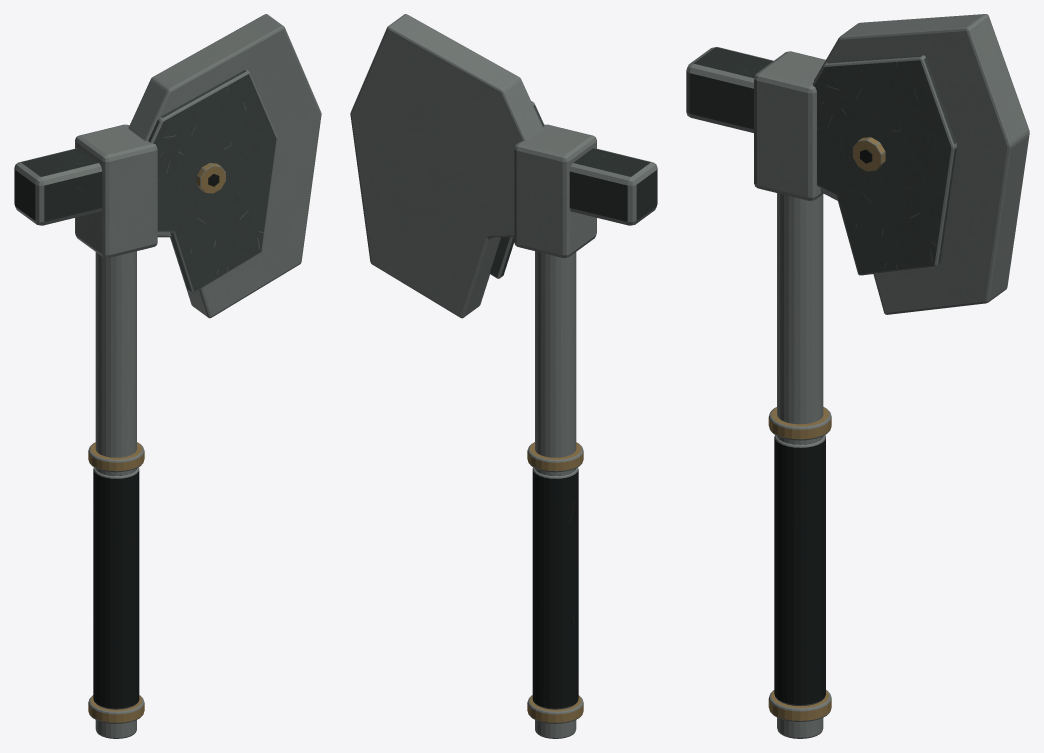
The model's file is axe-t3.glb.
The picture shows the model from 3 angles, left to right: view 1: azimuth 30°, elevation 25°; view 2: azimuth 150°, elevation 25°; view 3: azimuth 330°, elevation 25°; orthographic projection. The views are drawn at different scales.
Parts seen in each view (by area): view 1: Axe continuous cutting edge, Axe painted cheek, Continuous two-hand wrap, Steel shaft, Axe shaft socket, Counterweight poll, Grip ferrule.001, Grip ferrule, Axe cheek pin; view 2: Axe continuous cutting edge, Continuous two-hand wrap, Steel shaft, Axe shaft socket, Counterweight poll, Grip ferrule.001, Grip ferrule, Axe painted cheek; view 3: Axe continuous cutting edge, Axe painted cheek, Continuous two-hand wrap, Steel shaft, Axe shaft socket, Counterweight poll, Grip ferrule.001, Grip ferrule, Axe cheek pin.
Boxes of the visible parts, x1,y1,x2,y2 form: Axe continuous cutting edge: (128,14,321,318); Axe painted cheek: (148,69,277,292); Continuous two-hand wrap: (93,467,139,709); Steel shaft: (95,251,136,738); Axe shaft socket: (75,124,157,257); Counterweight poll: (14,148,102,225); Grip ferrule.001: (88,442,144,472); Grip ferrule: (88,695,144,723); Axe cheek pin: (196,163,225,193); Axe continuous cutting edge: (350,14,543,318); Continuous two-hand wrap: (532,467,578,709); Steel shaft: (535,251,576,738); Axe shaft socket: (514,124,596,257); Counterweight poll: (569,148,657,225); Grip ferrule.001: (527,442,583,472); Grip ferrule: (527,695,583,723); Axe painted cheek: (489,101,544,278); Axe continuous cutting edge: (814,14,1029,314); Axe painted cheek: (812,55,956,275); Continuous two-hand wrap: (774,435,825,706); Steel shaft: (777,193,823,738); Axe shaft socket: (754,51,825,200); Counterweight poll: (686,47,773,132); Grip ferrule.001: (768,407,831,440); Grip ferrule: (768,690,831,721); Axe cheek pin: (852,137,885,171).
Size of the model in its own units: 0.9938 by 2.22 by 0.212.
5 materials, 5 textured.
